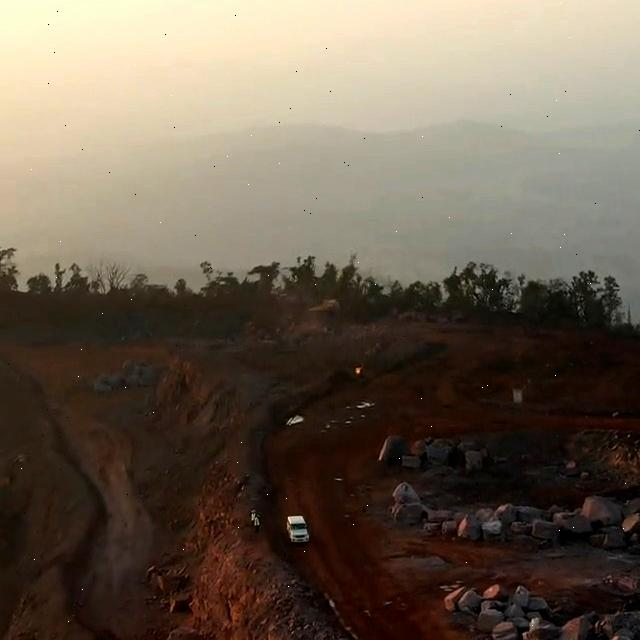car: (288, 517, 308, 543)
person: (255, 514, 262, 532), (251, 509, 257, 525)
